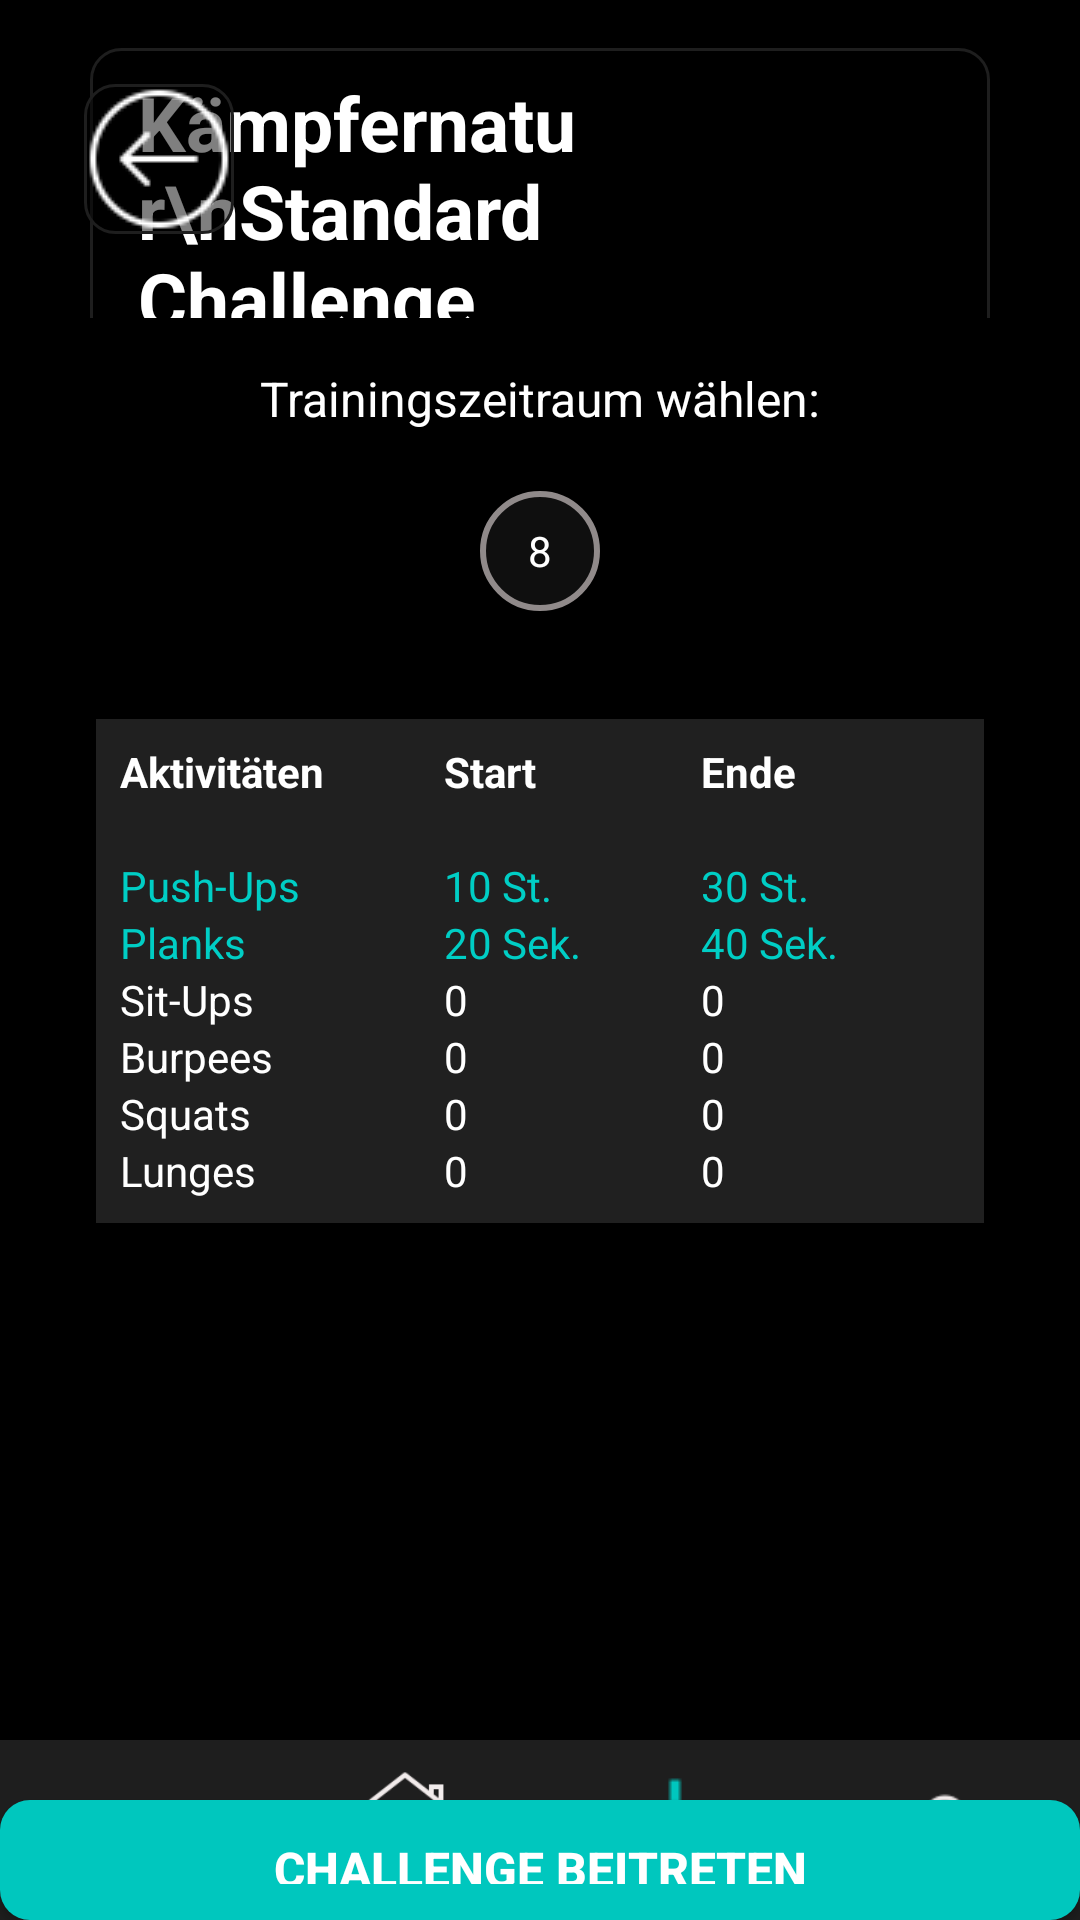

Icons on this 1080x1920 Android screen, each with its box as (x1, y1, x2, y2):
Zurück: (84, 84, 234, 234)
